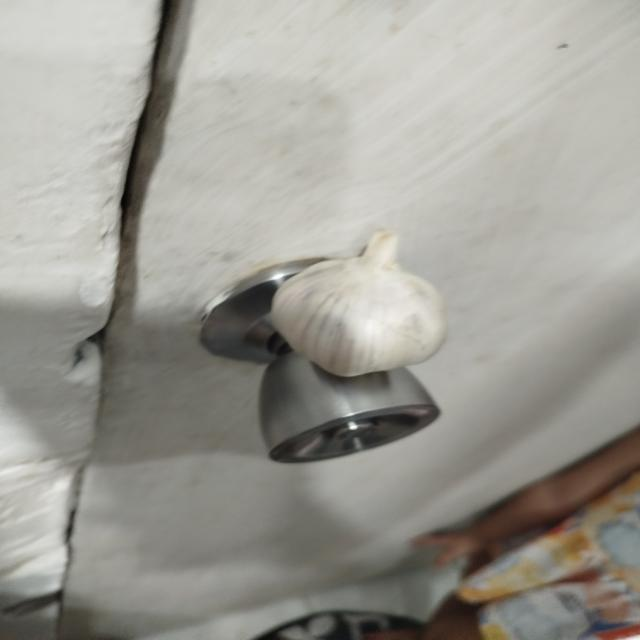garlic: (268, 228, 448, 378)
